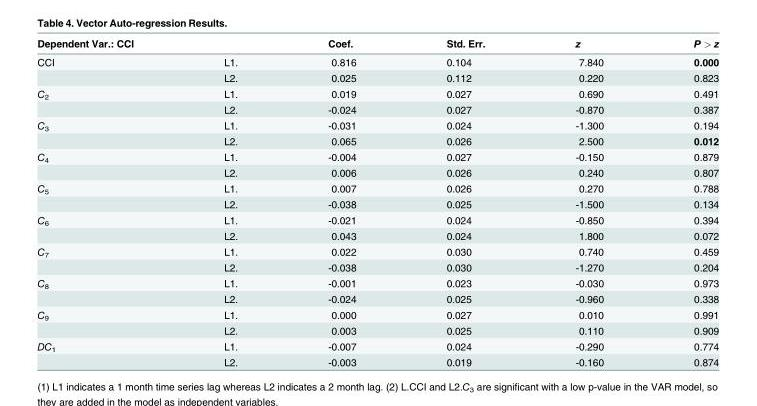table: (36, 36, 718, 367)
table column: (36, 36, 178, 367), (400, 36, 529, 367), (529, 36, 648, 367), (282, 36, 400, 367), (178, 36, 282, 367), (648, 36, 718, 367)
table column header: (36, 36, 718, 52)
table row: (36, 52, 718, 69), (36, 116, 718, 133), (36, 274, 718, 291), (36, 337, 718, 354), (36, 36, 718, 52), (36, 69, 718, 85), (36, 85, 718, 101), (36, 148, 718, 164), (36, 164, 718, 180), (36, 180, 718, 196), (36, 211, 718, 227), (36, 227, 718, 243), (36, 243, 718, 259), (36, 306, 718, 322), (36, 101, 718, 116), (36, 133, 718, 148), (36, 196, 718, 211), (36, 259, 718, 274), (36, 291, 718, 306), (36, 322, 718, 337), (36, 354, 718, 367)
table spanning cell: (36, 52, 178, 85), (36, 116, 178, 148), (36, 148, 178, 180), (36, 211, 178, 243), (36, 274, 178, 306), (36, 85, 178, 116), (36, 180, 178, 211), (36, 243, 178, 274), (36, 306, 178, 337), (36, 337, 178, 367)
